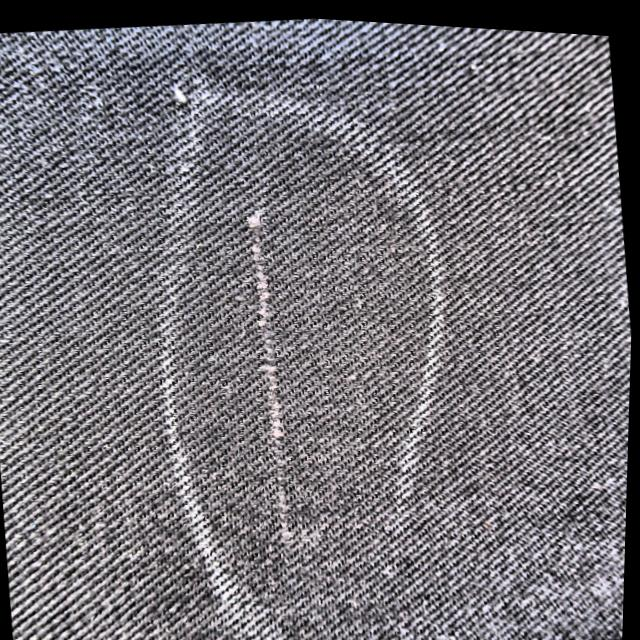Hole: (247, 199, 295, 522)
